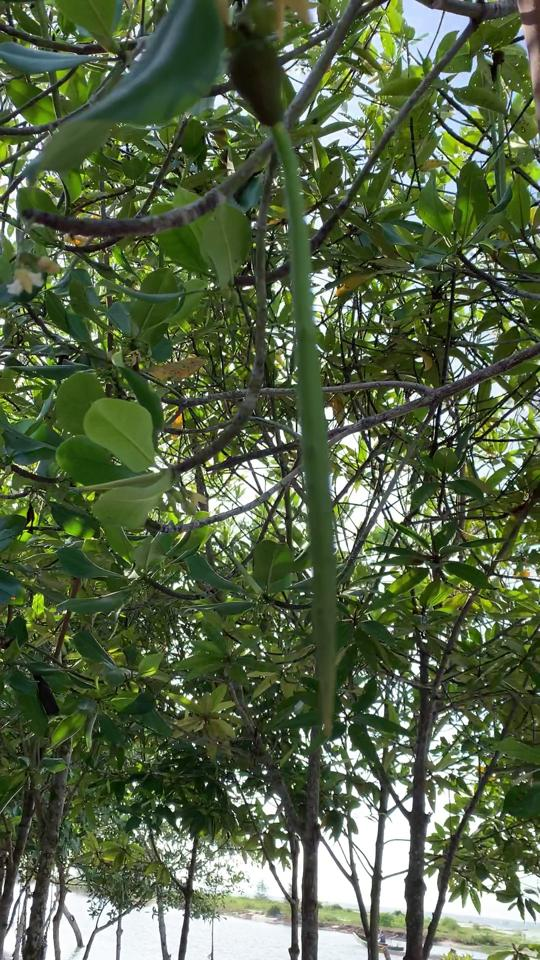mentah: (208, 15, 350, 755)
